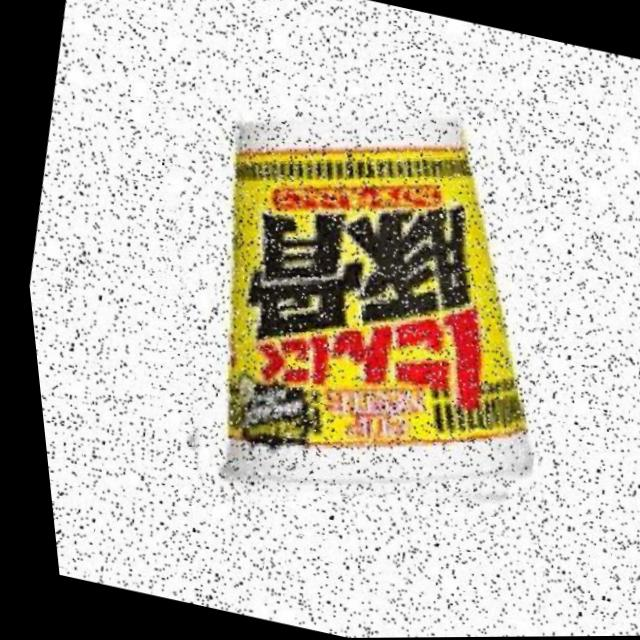Miscellaneous: (87, 48, 606, 562)
